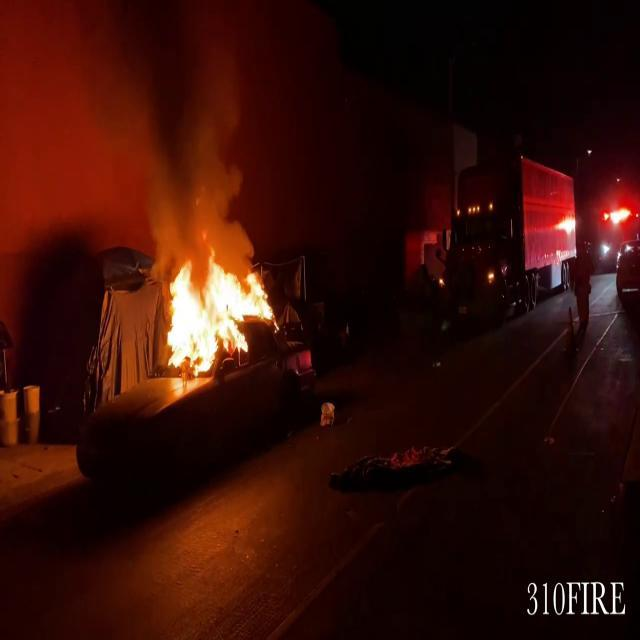Fire: (157, 238, 278, 376)
Smoke: (0, 0, 256, 249)
